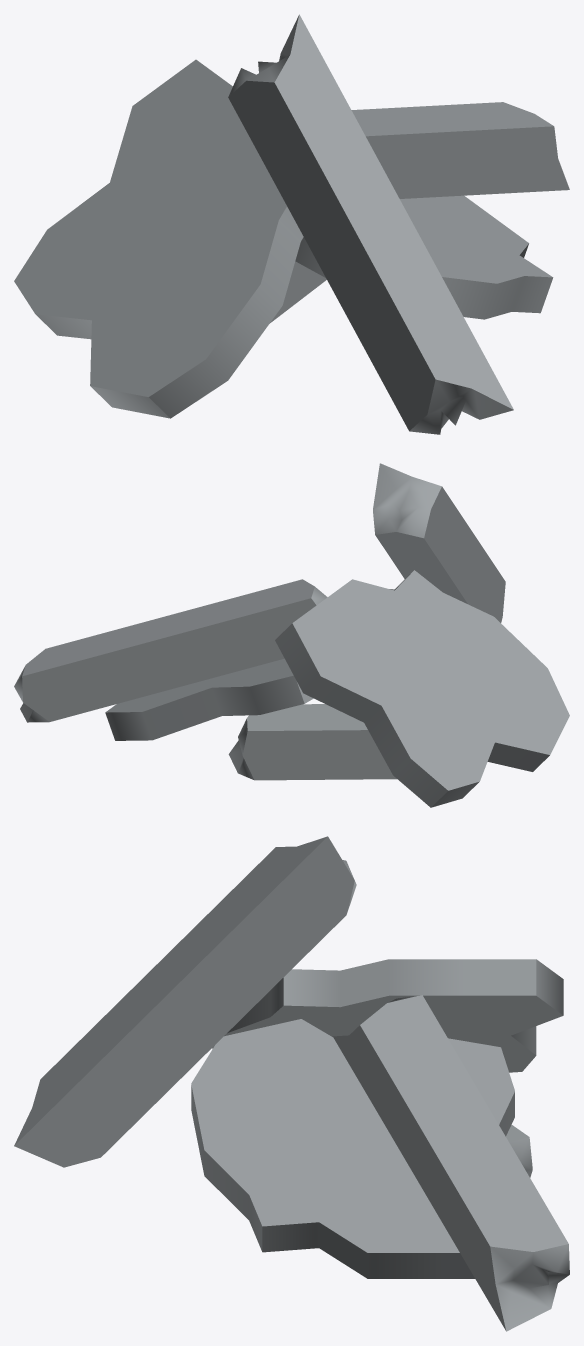
The model's file is rubble.obj.
3 views of the same model, one above another, from view 1: azimuth 30°, elevation 25°; view 2: azimuth 150°, elevation 25°; view 3: azimuth 270°, elevation 25° (orthographic). The views are drawn at different scales.
Visible parts, largest first — view 1: group2_pasted__pCube3; view 2: group2_pasted__pCube3; view 3: group2_pasted__pCube3.
Boxes of the visible parts, x1=… form: group2_pasted__pCube3: x1=14, y1=14, x2=569, y2=434; group2_pasted__pCube3: x1=14, y1=463, x2=569, y2=807; group2_pasted__pCube3: x1=14, y1=836, x2=569, y2=1331.
Size of the model in its own units: 3.99 by 2.29 by 3.43.
Materials: 1 (1 with a texture image).
